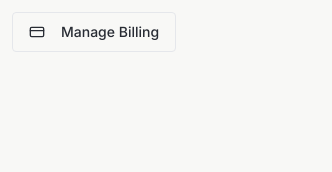
Test case: BillingPortal › should be disabled while loading
Click the button "Manage Billing" at [94, 32], box [12,12,176,52]
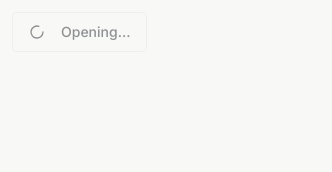
Check: the button "Opening..." is disabled, box [12,12,147,52]
